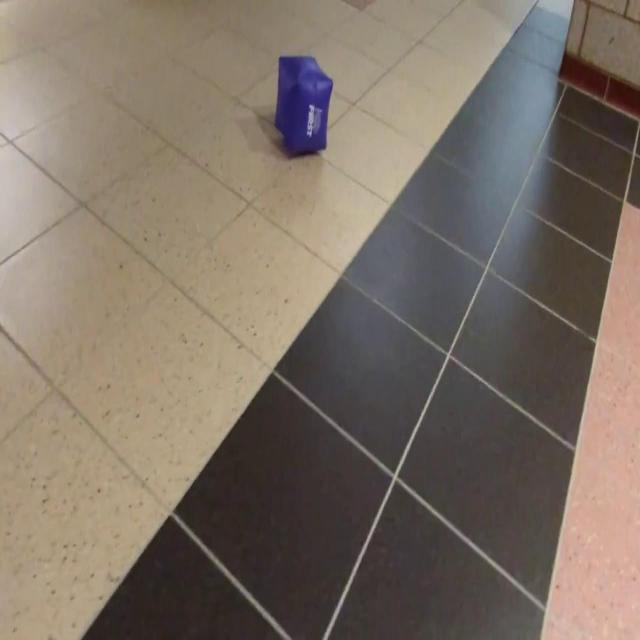frc_cube: (271, 54, 333, 154)
